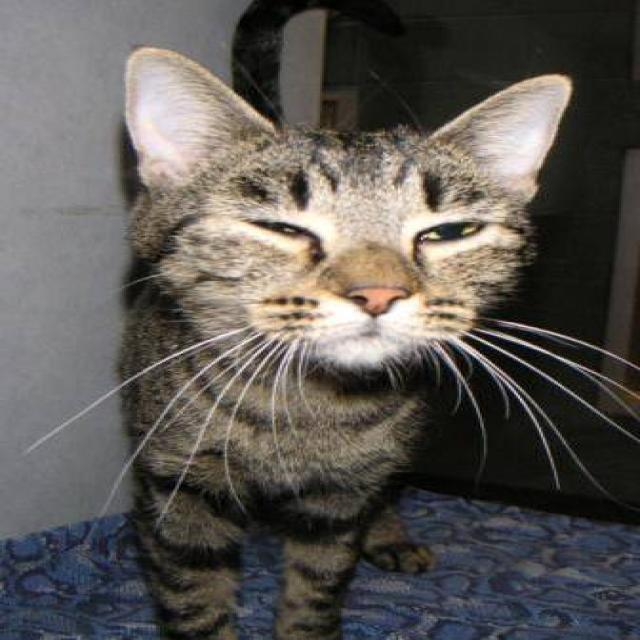cat: (21, 42, 638, 639)
